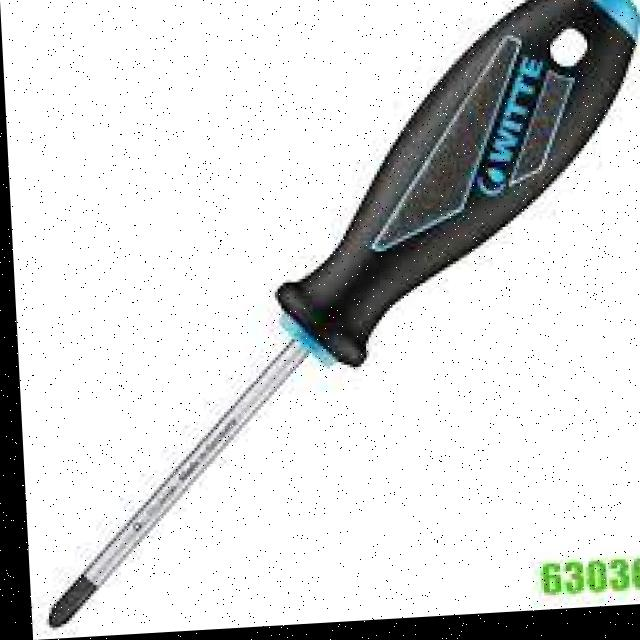Screwdriver: (43, 0, 640, 629)
